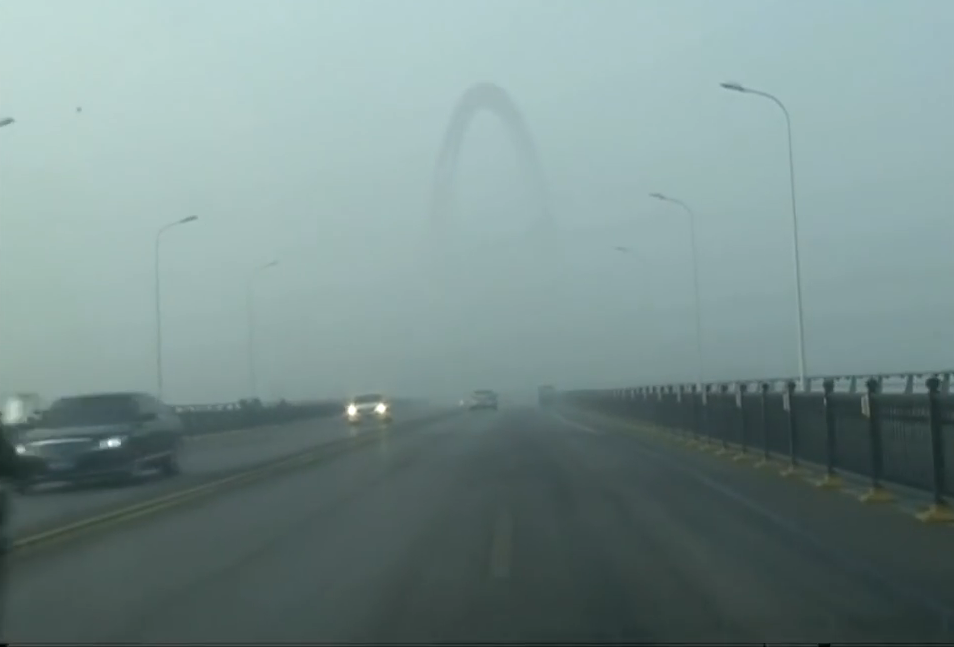car: (2, 391, 185, 488), (344, 394, 393, 423), (463, 388, 497, 409)
